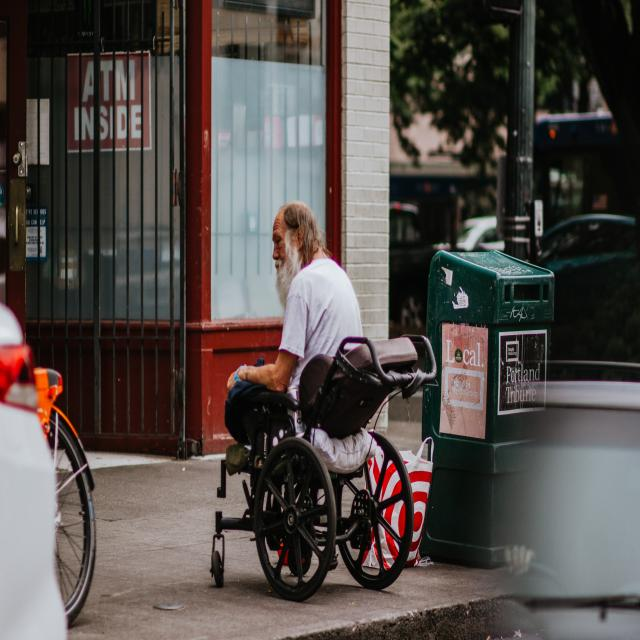wheelchairs: (214, 330, 438, 595)
